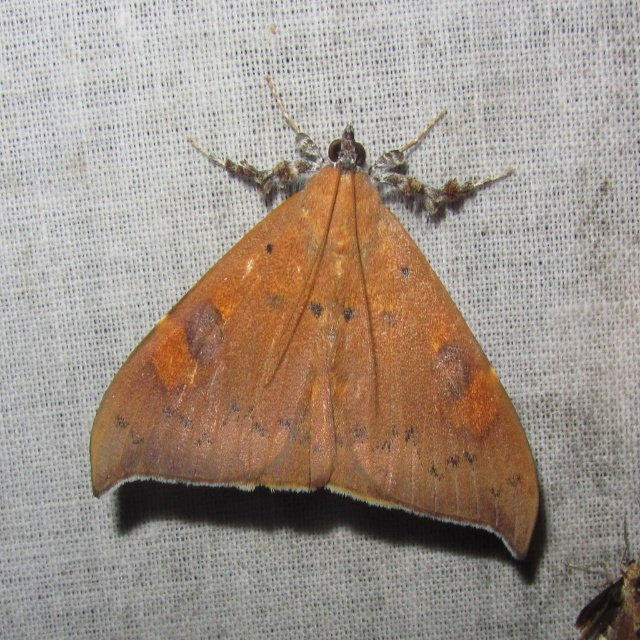Moths and butterflies: (85, 73, 546, 566), (565, 511, 640, 639)
